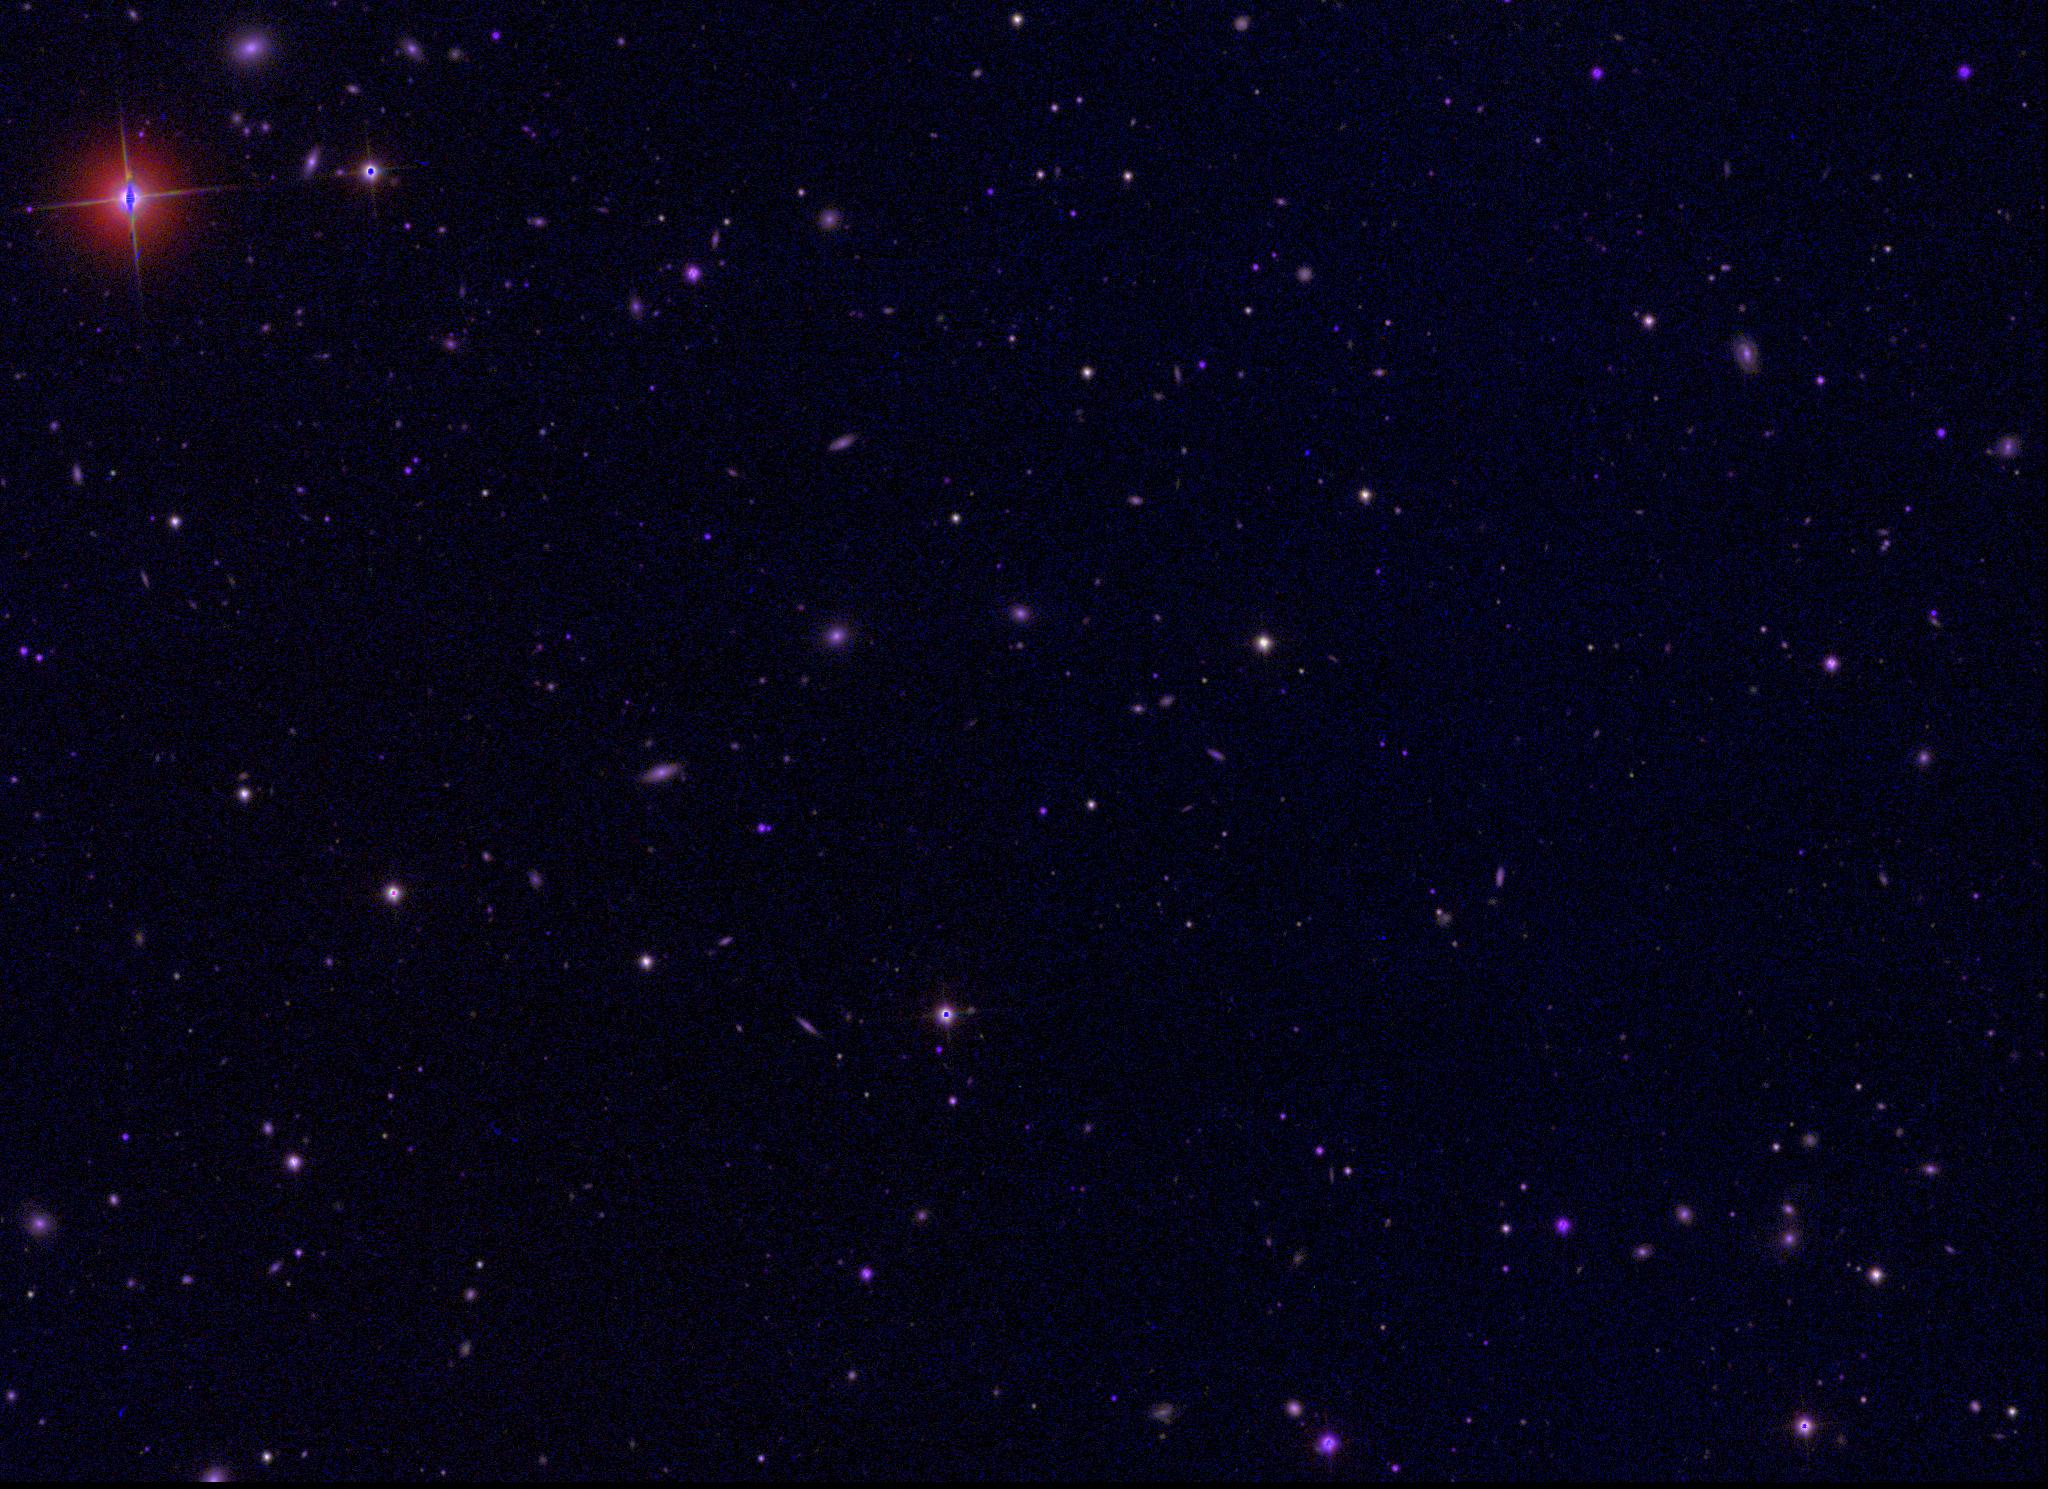L: (1297, 442, 1312, 457)
